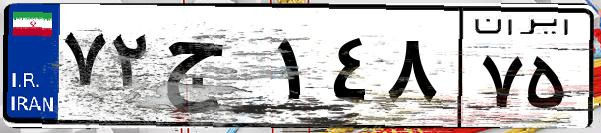1: (270, 28, 330, 110)
2: (110, 28, 158, 98)
4: (330, 28, 385, 110)
5: (525, 38, 570, 115)
7: (57, 26, 110, 100), (475, 38, 525, 113)
8: (385, 28, 445, 110)
ج: (158, 20, 270, 120)
